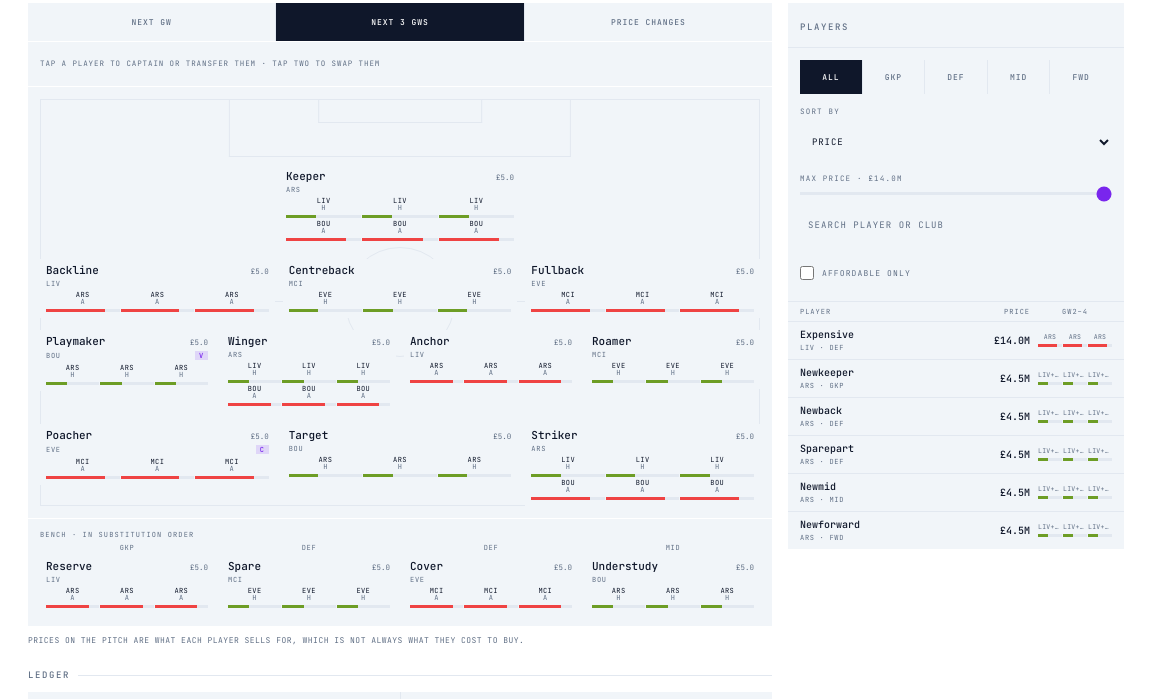
Test: the armbands › swaps the two when the vice is promoted, rather than doubling up
(page scrolled)
Expected: the button "Keeper £5.0 ARS LIV H BOU A LIV H BOU A LIV H BOU A" is shown, x1=280 y1=165 x2=520 y2=247
Playmaker is vice, Poacher is captain.
Click the button "Playmaker £5.0 BOU V ARS H ARS H ARS H" at [127, 360], box x1=40 y1=330 x2=214 y2=391
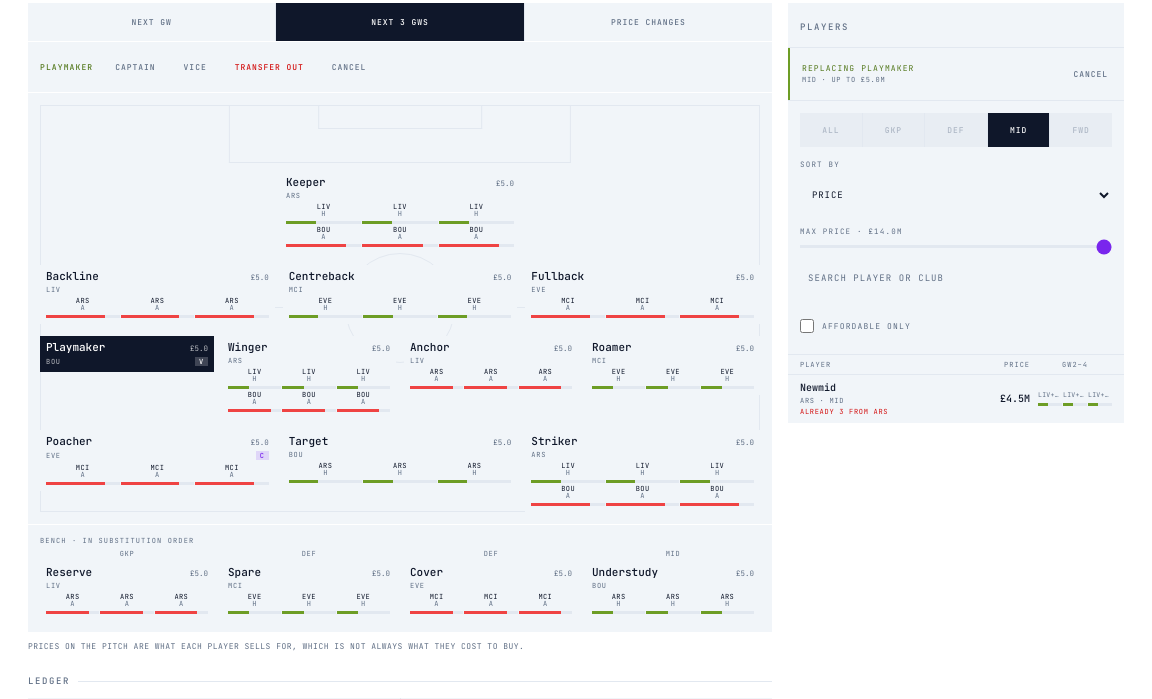
Click the button "CAPTAIN" at [135, 67], box x1=105 y1=48 x2=166 y2=86
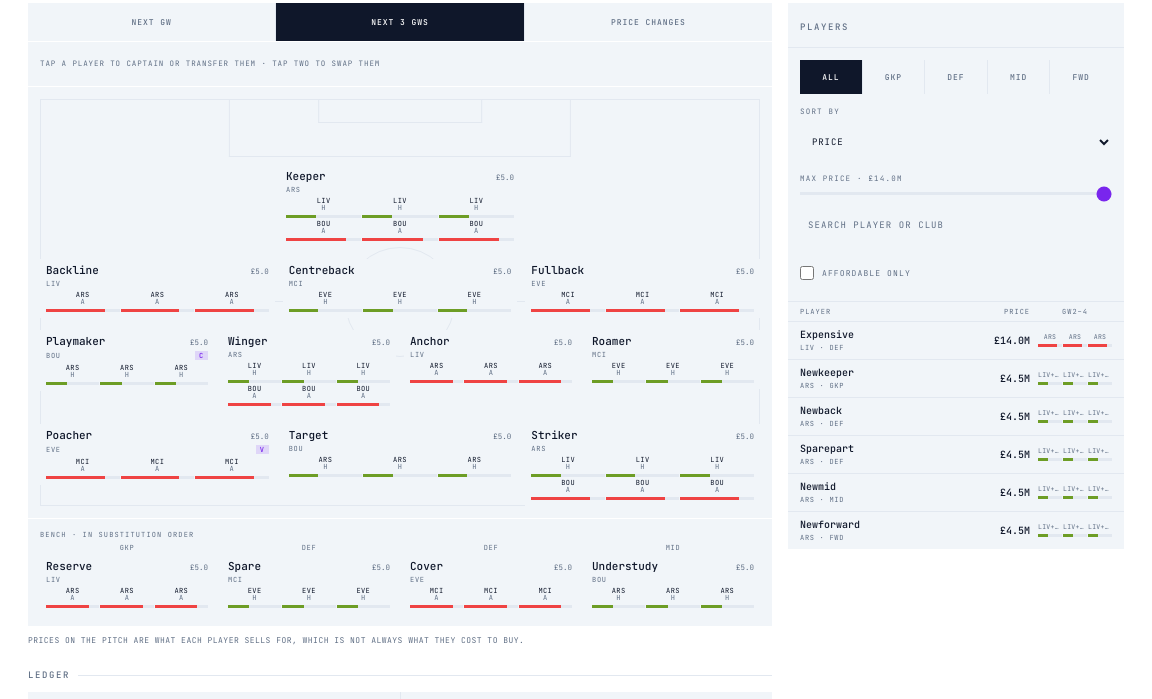
Expected: the text "C" is shown, x1=195 y1=351 x2=208 y2=360
Expected: the text "V" is shown, x1=256 y1=445 x2=269 y2=454
